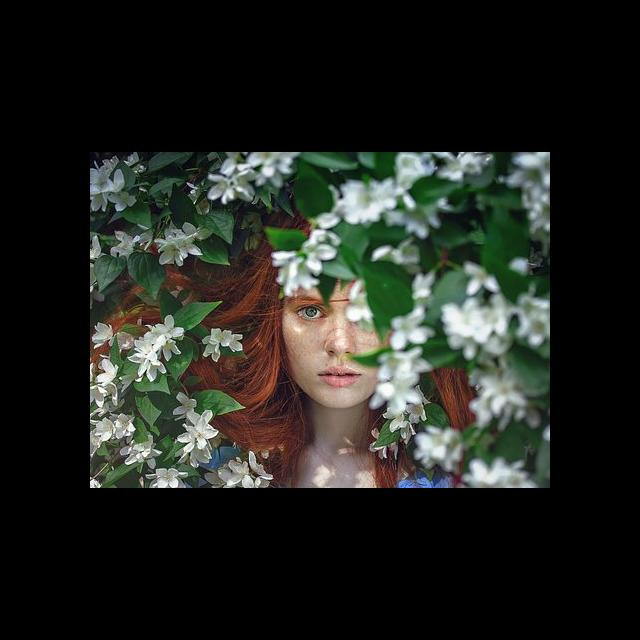female: (219, 210, 465, 409)
